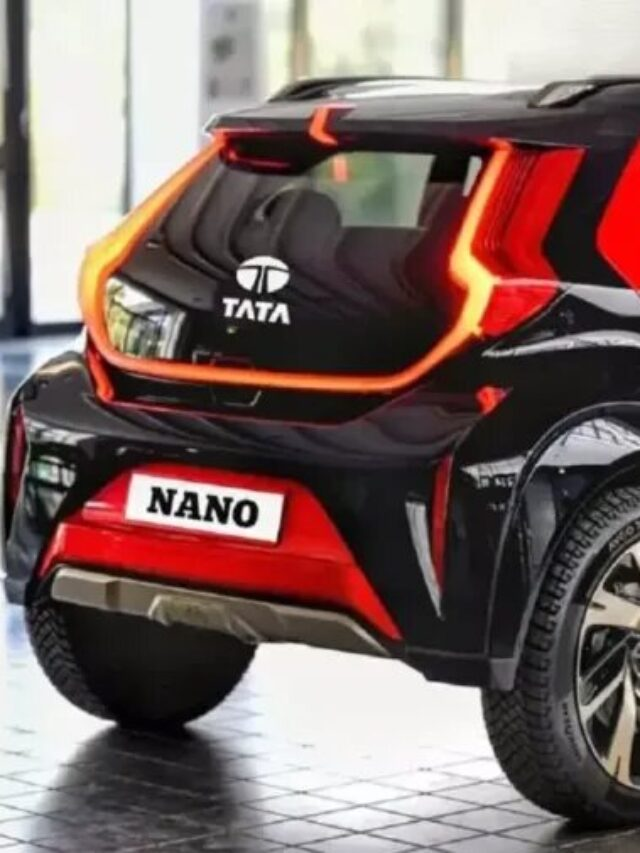Nano: (5, 68, 637, 851)
